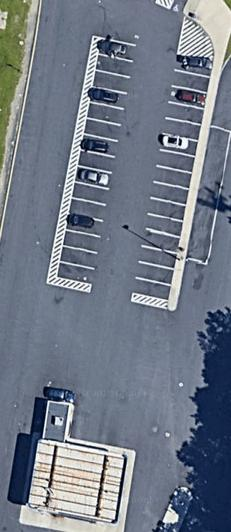parkingspot: (129, 53, 215, 303), (55, 36, 140, 286), (169, 0, 191, 15)
